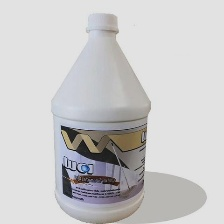cleaning_solution: (48, 7, 154, 224)
